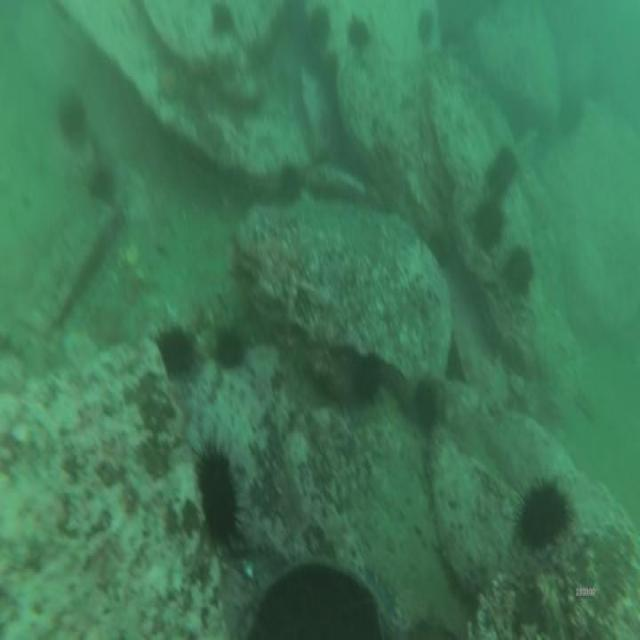echinus: (198, 455, 236, 537), (521, 482, 569, 544), (159, 332, 193, 378), (487, 147, 517, 193), (506, 245, 532, 291), (355, 352, 381, 398), (414, 379, 438, 427), (476, 202, 502, 246), (59, 95, 85, 139), (216, 330, 244, 368), (281, 162, 299, 198), (347, 17, 368, 46), (310, 11, 329, 43), (419, 11, 436, 44), (93, 174, 111, 205), (211, 4, 230, 32)
starfish: (157, 55, 184, 103)
